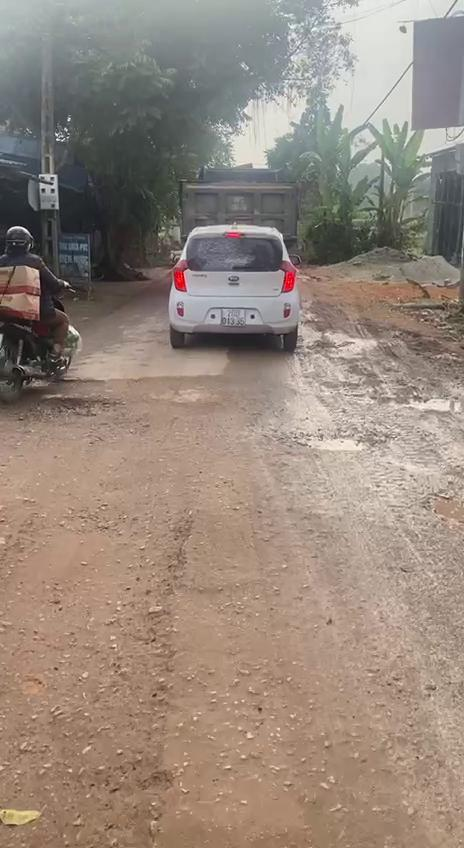pothole: (0, 513, 198, 848), (17, 392, 120, 432), (298, 423, 377, 456), (421, 489, 464, 533)
